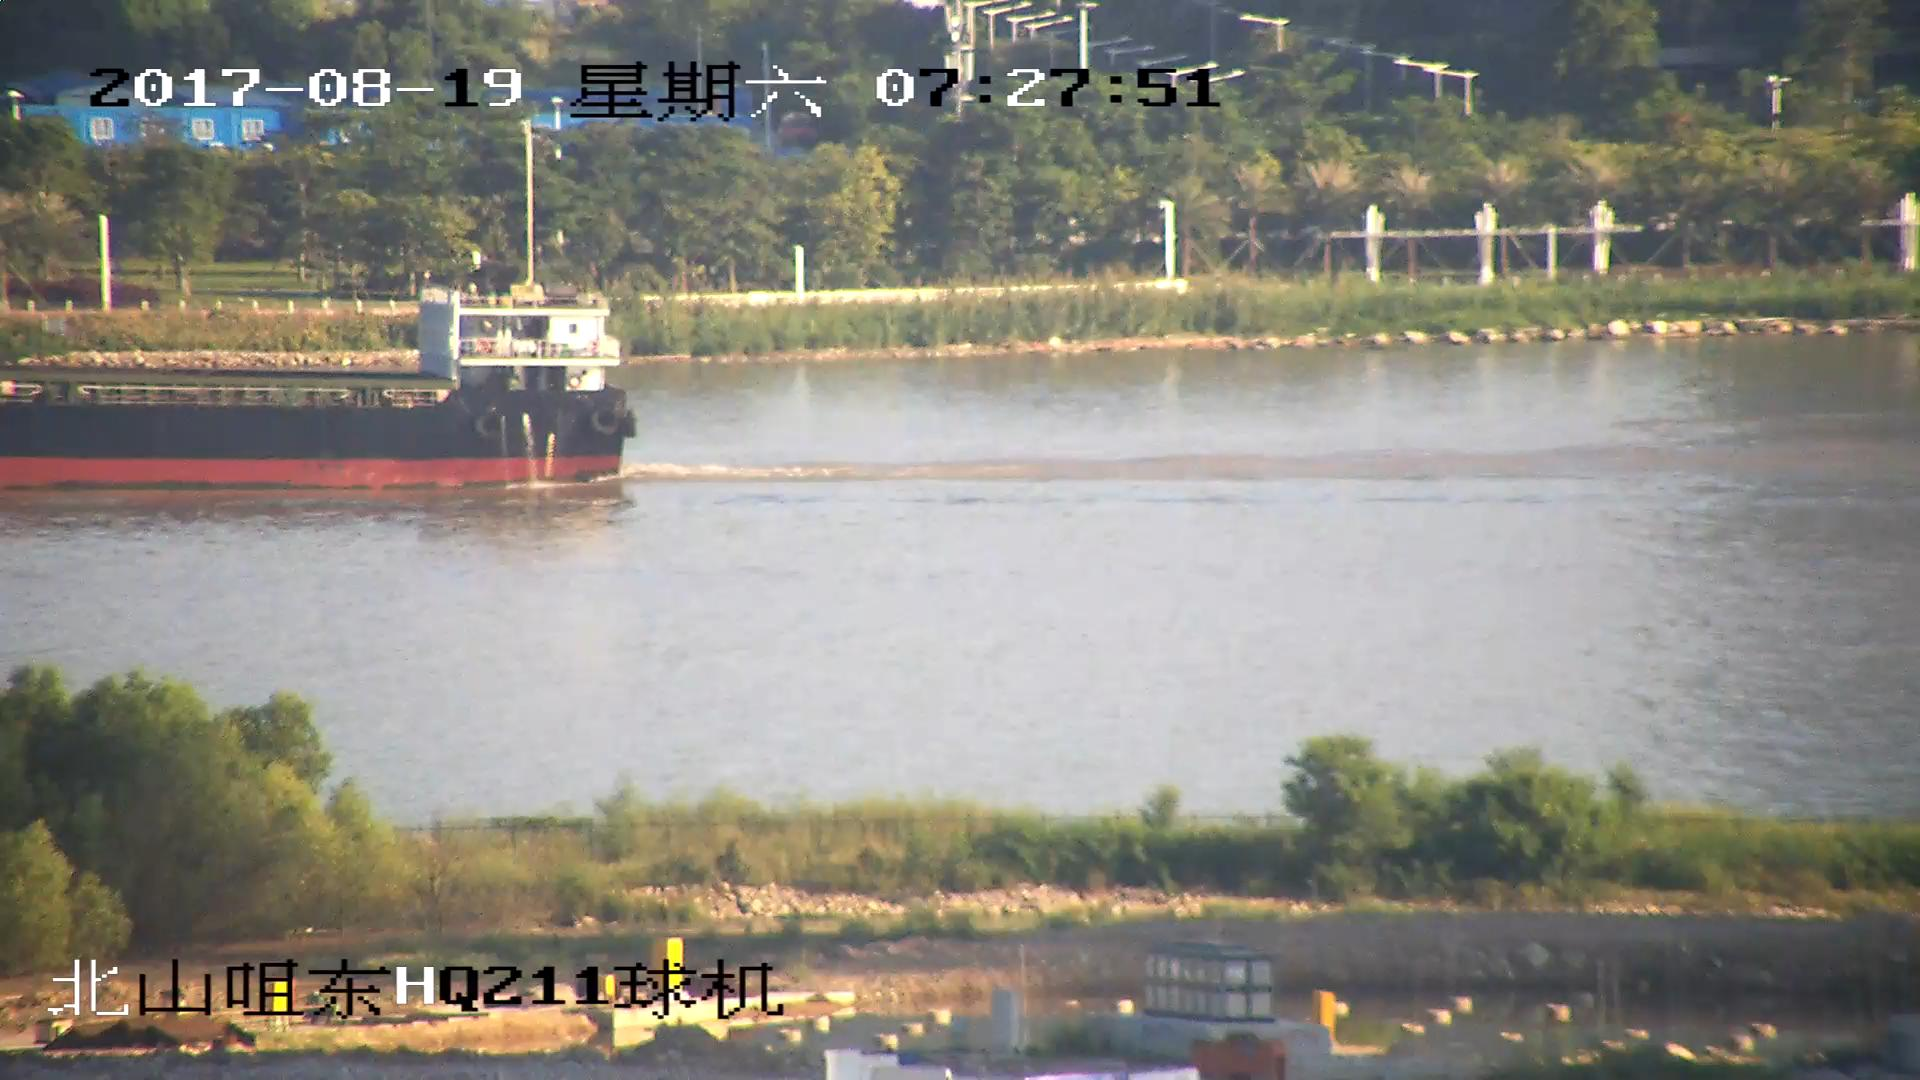general cargo ship: (1, 295, 633, 498)
